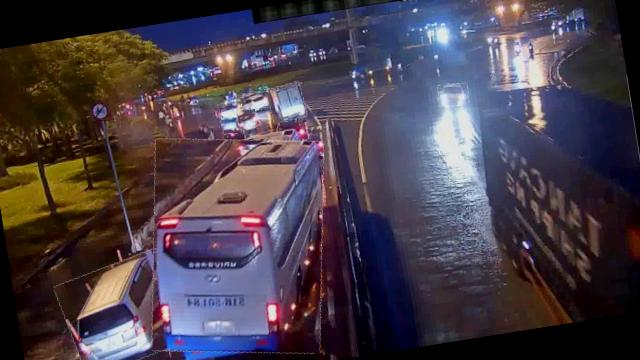Bus: (128, 120, 346, 360)
Car: (55, 250, 186, 360), (436, 80, 470, 108), (240, 90, 272, 112), (216, 99, 244, 122), (220, 114, 247, 136), (236, 106, 259, 129)
Truck: (473, 75, 640, 323), (266, 81, 307, 124)
